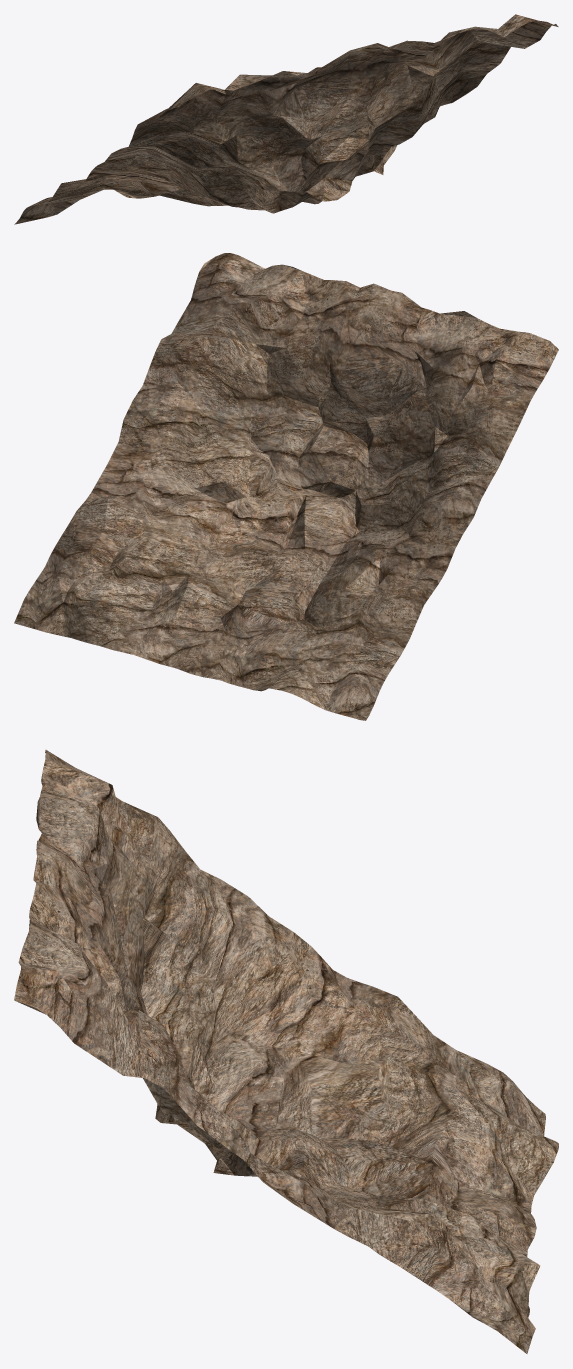
Rendered from CaveCollapsedSheet_LOD2.obj.
3 renders of one model, top to bottom at view 1: azimuth 30°, elevation 25°; view 2: azimuth 150°, elevation 25°; view 3: azimuth 270°, elevation 25°, orthographic. The views are drawn at different scales.
Parts seen in each view (by area): view 1: CaveCollapsedSheet_LOD2; view 2: CaveCollapsedSheet_LOD2; view 3: CaveCollapsedSheet_LOD2.
Part boxes in pixels (x1=…): CaveCollapsedSheet_LOD2: x1=14, y1=14, x2=558, y2=224; CaveCollapsedSheet_LOD2: x1=14, y1=253, x2=558, y2=720; CaveCollapsedSheet_LOD2: x1=14, y1=750, x2=558, y2=1353.
Bounding box in the file's own units: 5.24 × 3.53 × 4.63.
